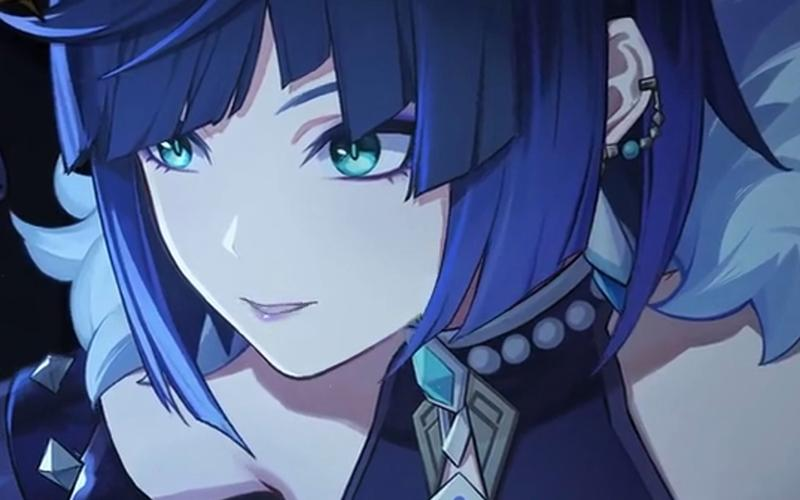夜兰: (2, 1, 800, 500)
